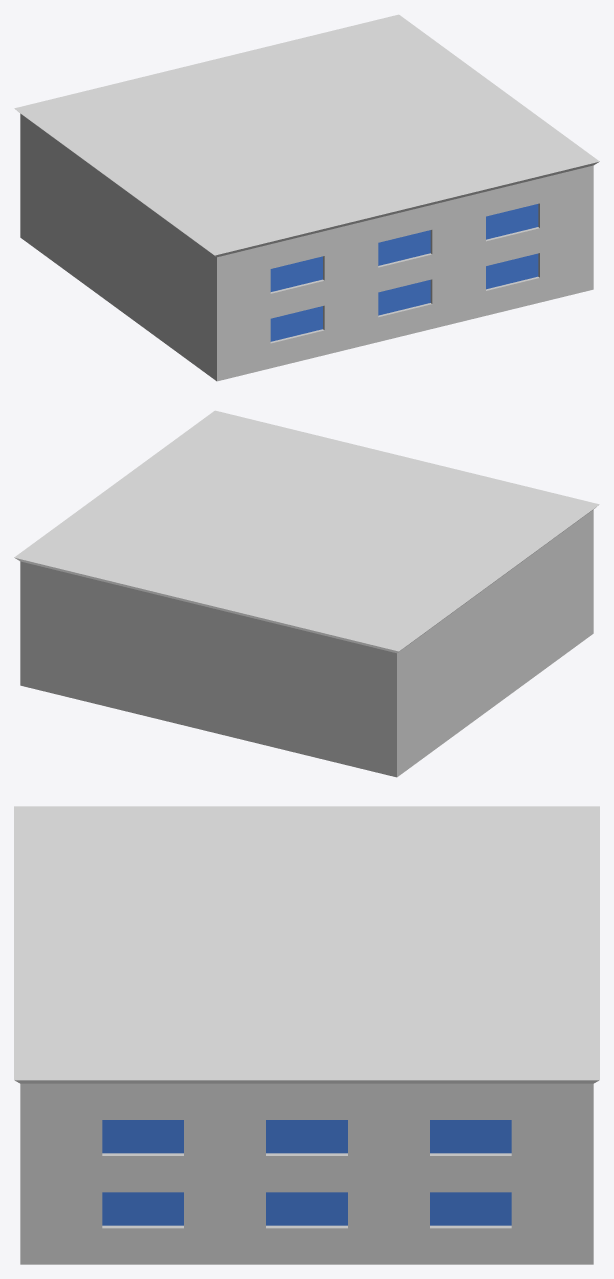
The model's file is BuildngModel.dae.
3 views of the same model, one above another, from view 1: azimuth 30°, elevation 25°; view 2: azimuth 150°, elevation 25°; view 3: azimuth 270°, elevation 25° (orthographic). The views are drawn at different scales.
Parts seen in each view (by area): view 1: building; view 2: building; view 3: building.
Part boxes in pixels (x1,y1,x2,y2): building: (14,14,599,381); building: (14,410,599,777); building: (14,806,599,1264).
Size of the model in its own units: 27.12 by 24.52 by 8.65.
